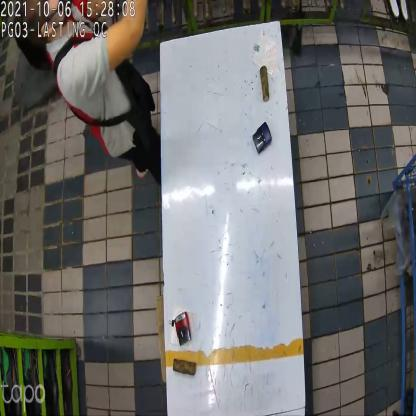stamp: (172, 314, 196, 346), (254, 121, 272, 155)
